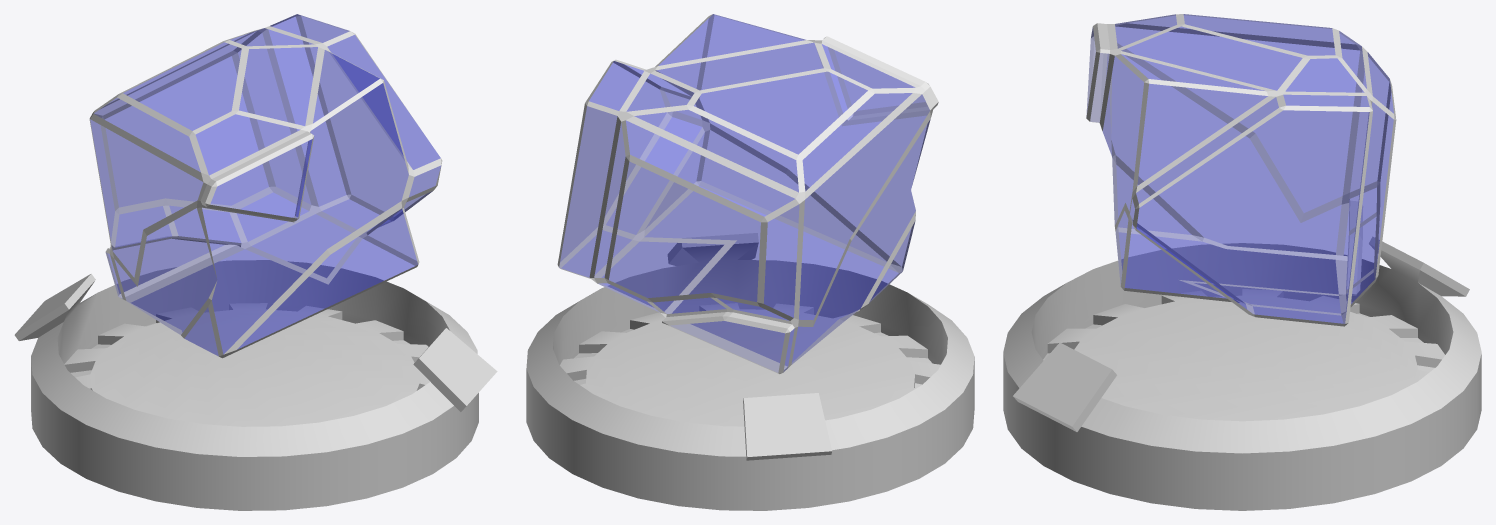
File: HolografikMasa.fbx
The picture shows the model from 3 angles, left to right: view 1: azimuth 30°, elevation 25°; view 2: azimuth 150°, elevation 25°; view 3: azimuth 270°, elevation 25°; orthographic projection. The views are drawn at different scales.
Parts seen in each view (by area): view 1: Cylinder, Cube; view 2: Cube, Cylinder; view 3: Cylinder, Cube.
Boxes of the visible parts, x1,y1,x2,y2 form: Cylinder: (14, 260, 497, 510); Cube: (89, 14, 442, 358); Cube: (557, 14, 938, 374); Cylinder: (526, 233, 974, 510); Cylinder: (1003, 236, 1481, 510); Cube: (1086, 14, 1396, 326).
Size of the model in its own units: 1509 by 1298 by 1509.
